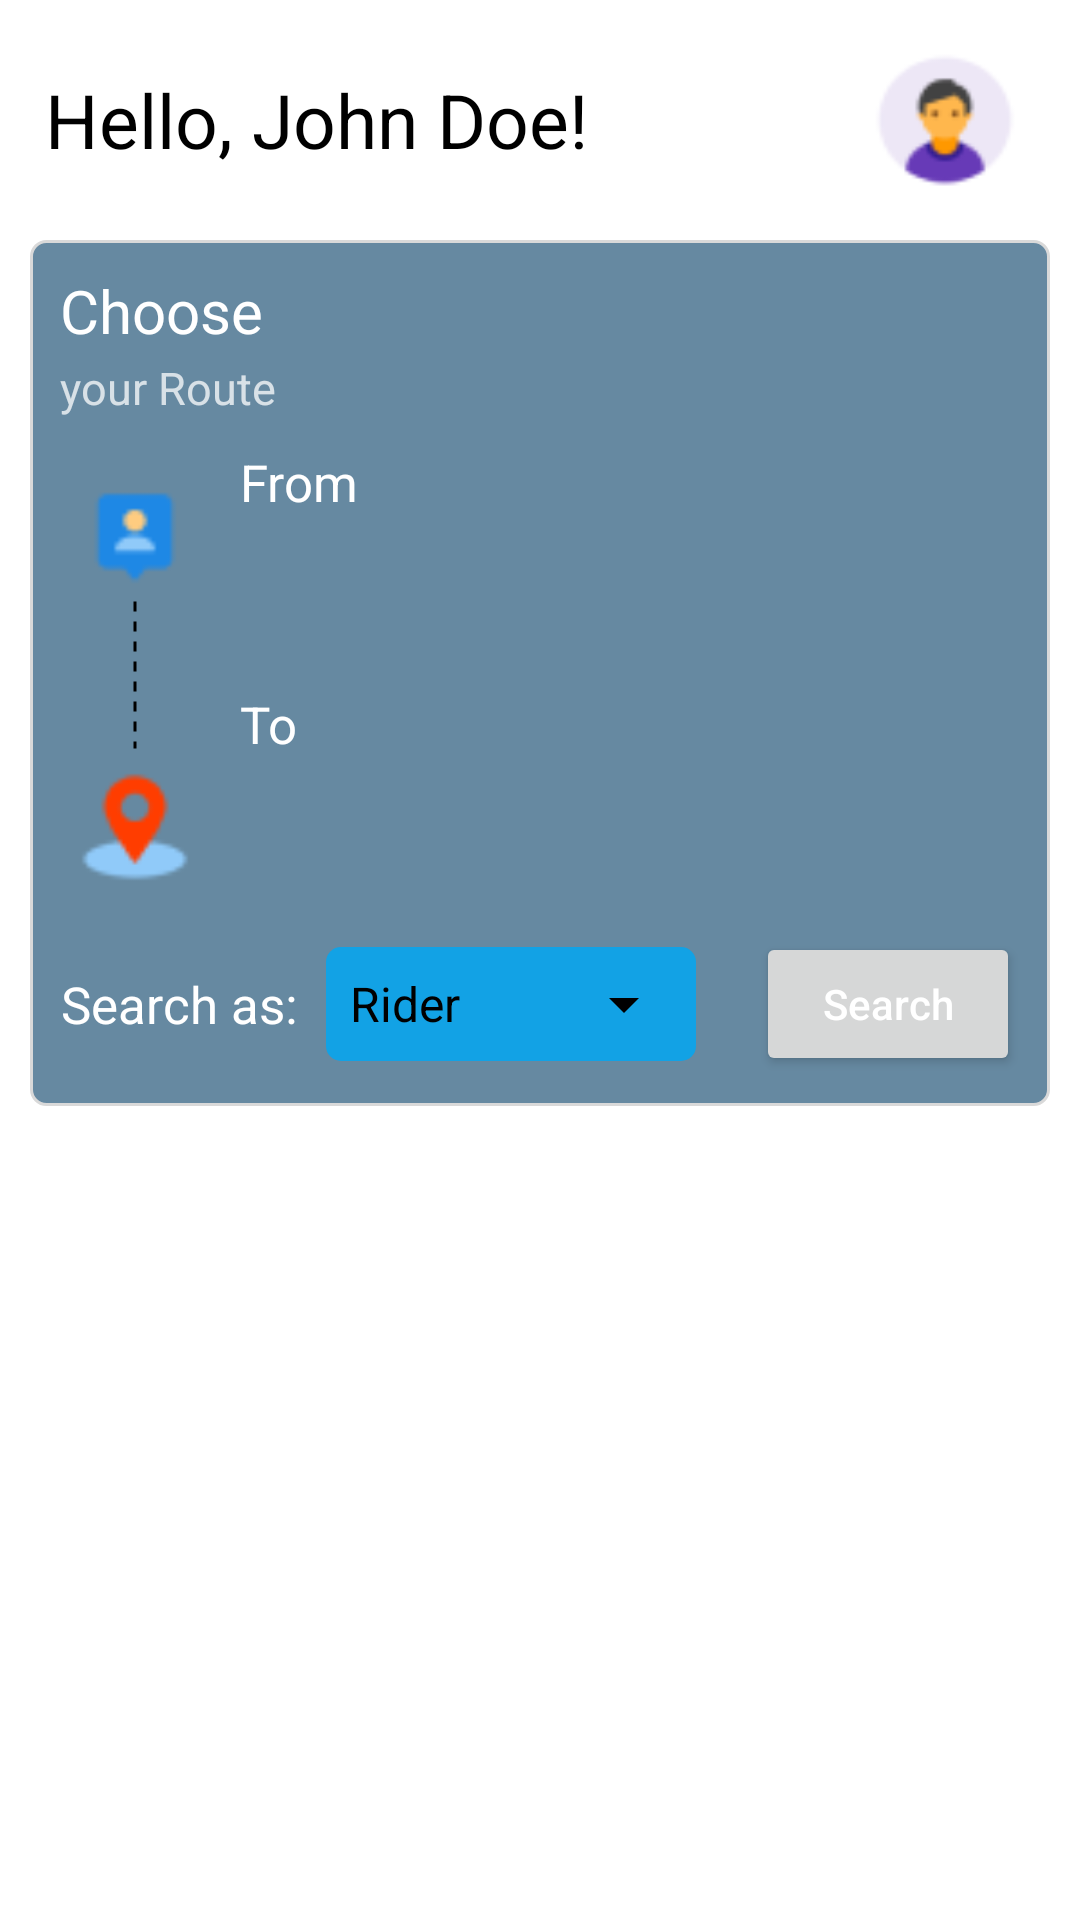

Named icons in this screenshot (1080px x 1920px) and their bounding boxes, BBox(x1, y1, x2, y2):
male user formatter: BBox(904, 77, 986, 185)
place marker: BBox(83, 774, 187, 879)
user location: BBox(97, 494, 173, 579)
